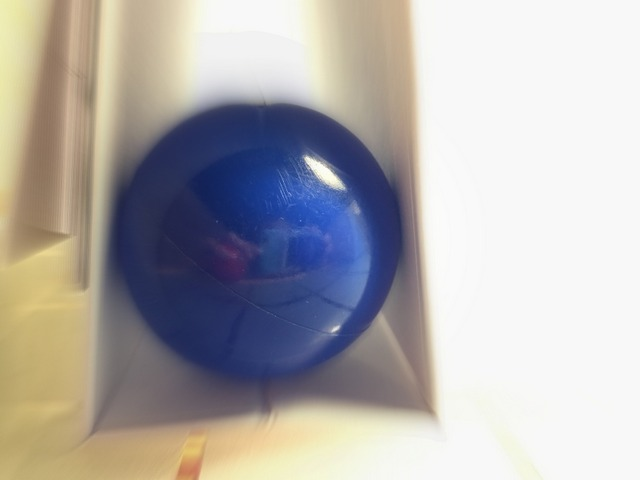Ball: (119, 101, 400, 384)
